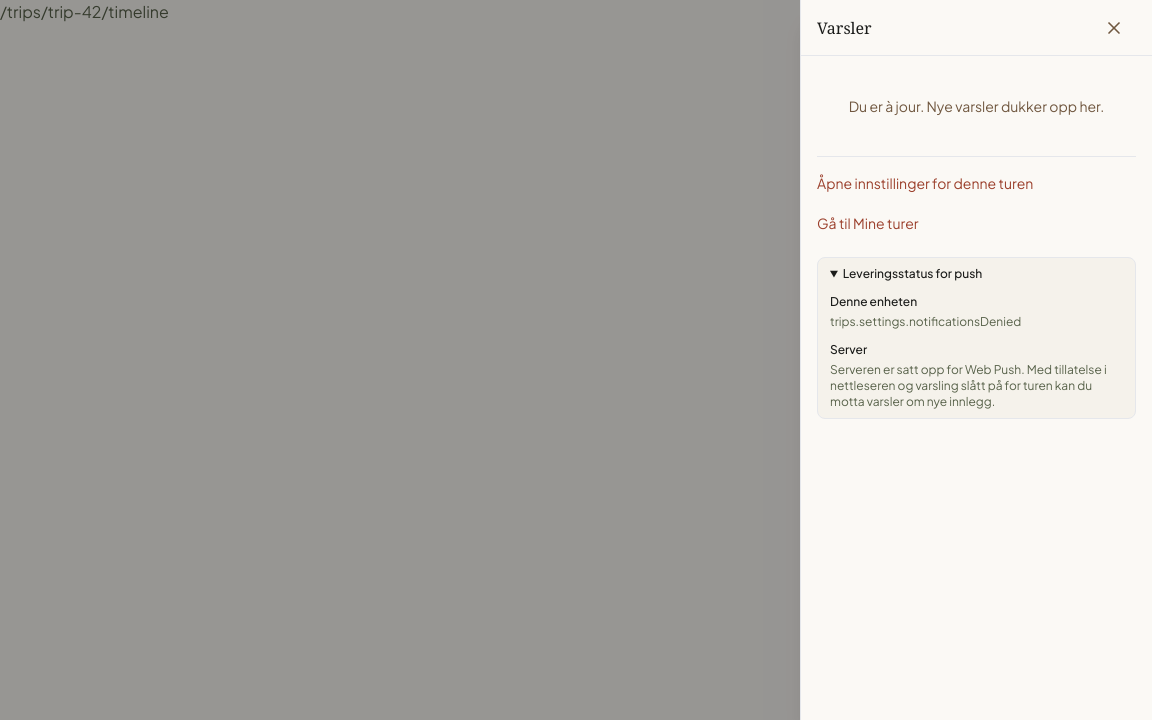
NotificationsPanel › navigates to trip settings when the shortcut is used
The width and height of the screenshot is (1152, 720).
Click the button "Åpne innstillinger for denne turen".
click(976, 183)  # box top-left (817, 165), bottom-right (1136, 201)
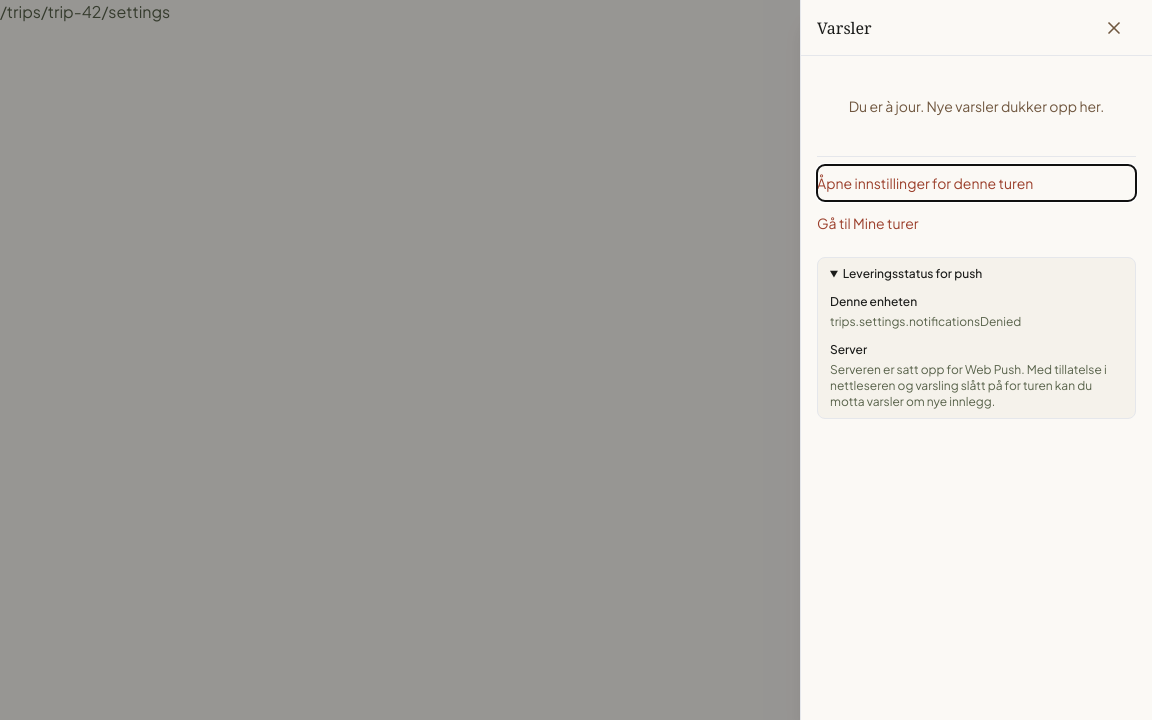
Check: the text with test id "router-path" reads "/trips/trip-42/settings", box top-left (0, 1), bottom-right (170, 22)
